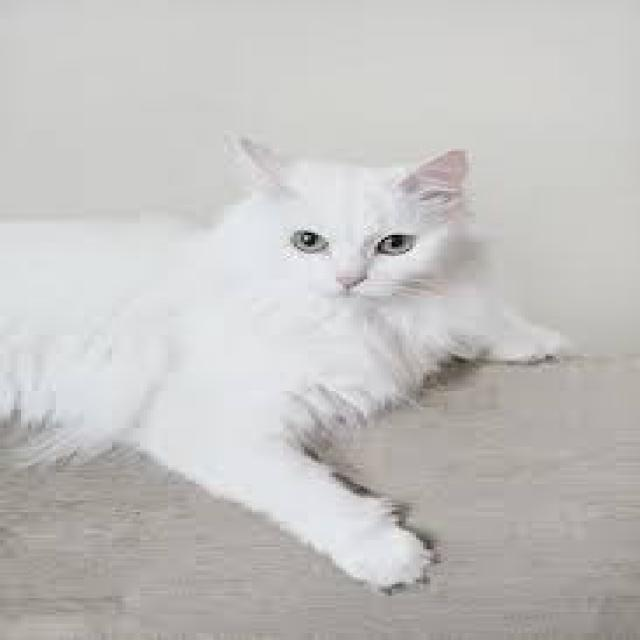Cat: (0, 128, 582, 599)
